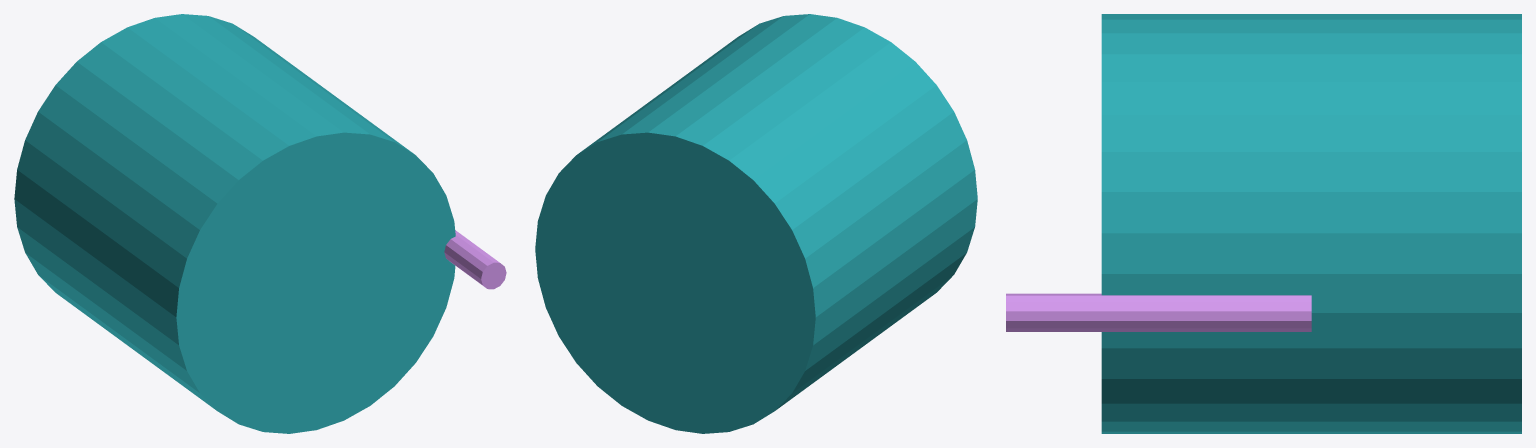
Rendered from rainwater-cistern.glb.
3 views of the same model, side by side, from view 1: azimuth 30°, elevation 25°; view 2: azimuth 150°, elevation 25°; view 3: azimuth 270°, elevation 25° (orthographic). The views are drawn at different scales.
Parts seen in each view (by area): view 1: world; view 2: world; view 3: world.
Part boxes in pixels (<box>): world: <box>14,14,506,433</box>; world: <box>535,14,977,433</box>; world: <box>1006,14,1521,433</box>.
Bounding box in the file's own units: 1.15 × 1.1 × 1.35.
